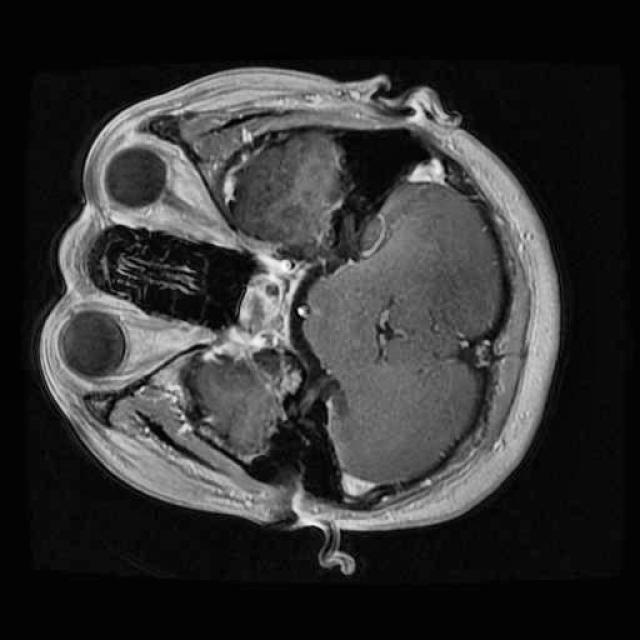Tumor: (230, 259, 300, 349)
